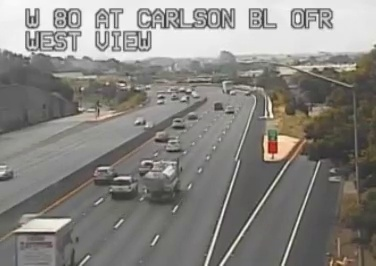car: (110, 176, 137, 195), (93, 166, 115, 181), (139, 160, 154, 175), (165, 140, 181, 152)
small-truck: (16, 217, 75, 266)
tank-truck: (144, 161, 181, 200)
